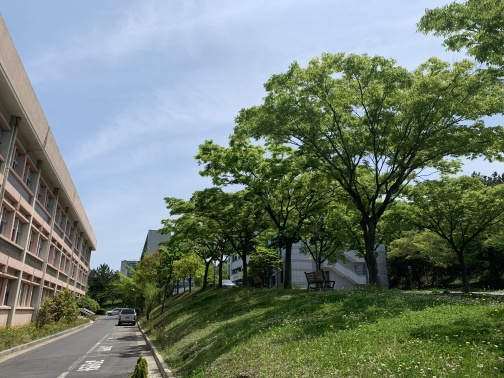College Of Education: (3, 17, 92, 363)
